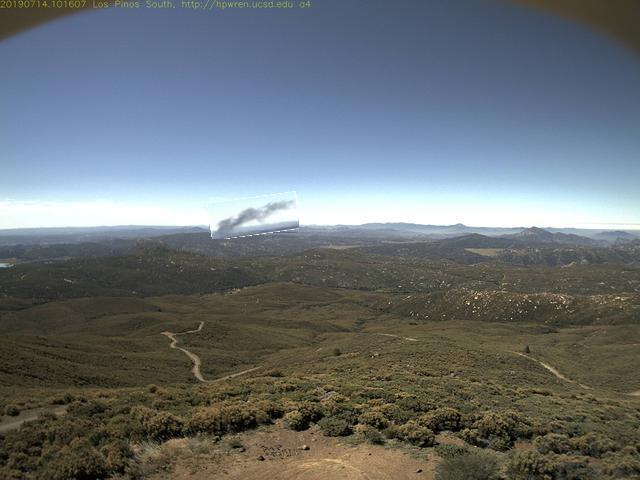smoke: (209, 195, 300, 238)
